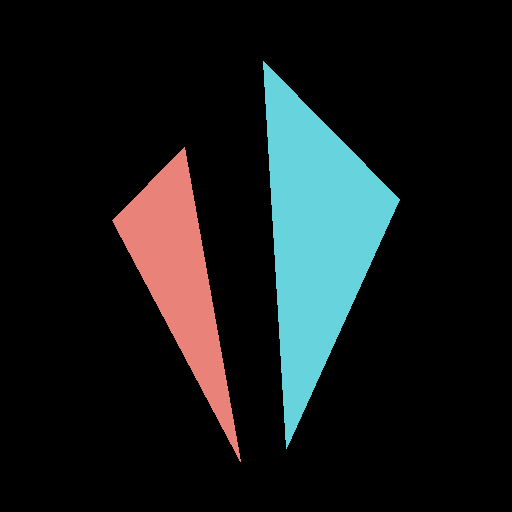triangle: (263, 61, 399, 448), (112, 147, 240, 461)
